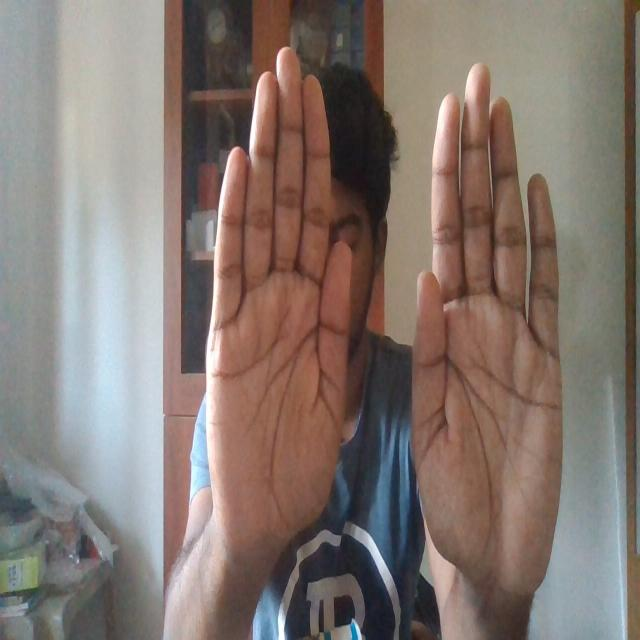ThankYou: (199, 36, 570, 601)
